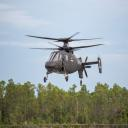helicopter: (25, 33, 105, 87)
